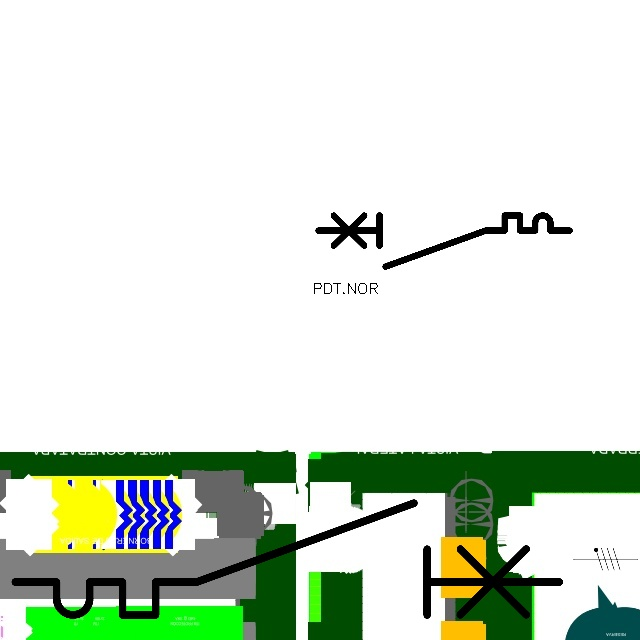interruptor_termomagnetico: (1, 489, 573, 629), (312, 209, 576, 273)
